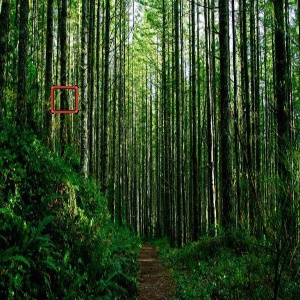square: (48, 84, 81, 116)
